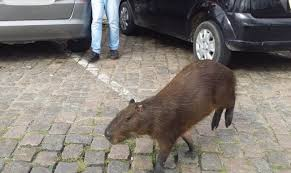capivara: (105, 59, 236, 170)
